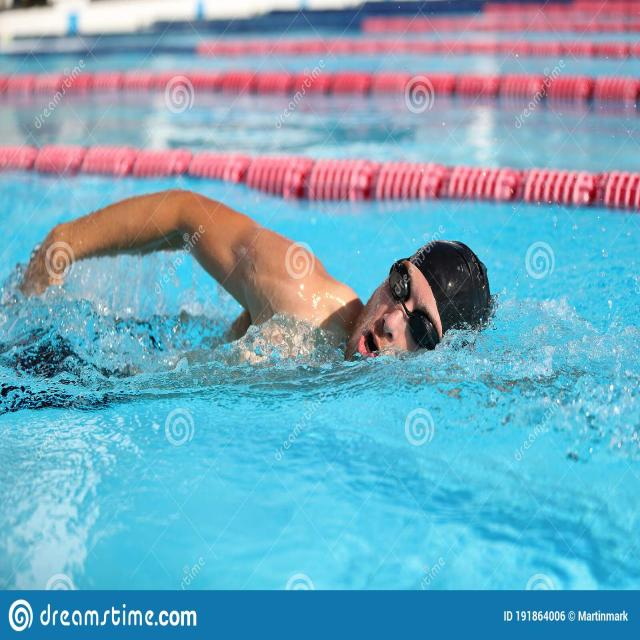Swimming: (5, 191, 489, 379)
